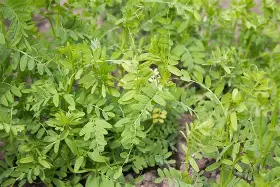crops: (0, 0, 276, 183), (0, 102, 61, 182), (0, 3, 38, 88), (115, 117, 172, 172), (178, 115, 225, 179), (238, 100, 277, 173), (215, 82, 248, 149), (216, 0, 258, 52), (141, 32, 178, 85), (109, 0, 149, 49), (54, 41, 84, 92), (45, 0, 84, 37), (238, 67, 274, 104), (78, 161, 126, 186), (150, 163, 195, 186)
